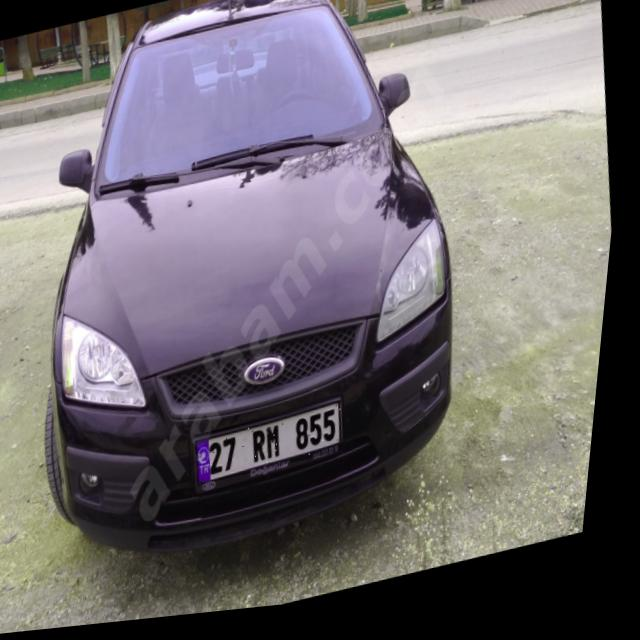license_plate: (200, 408, 357, 492)
